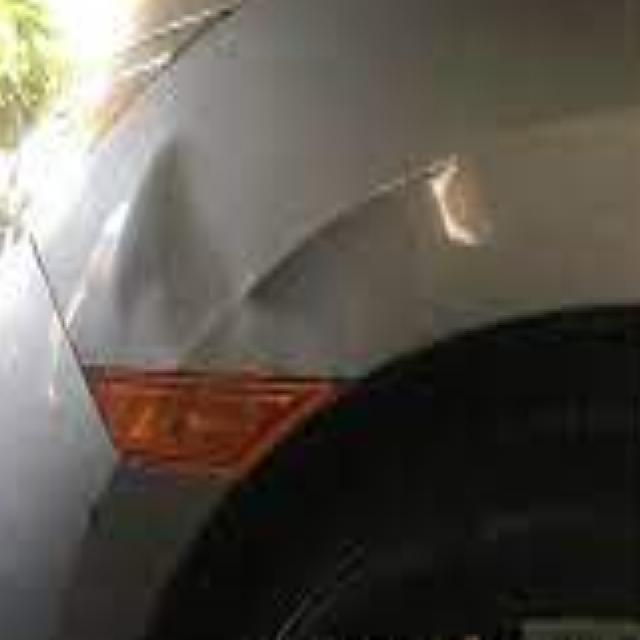dents: (104, 140, 253, 353)
